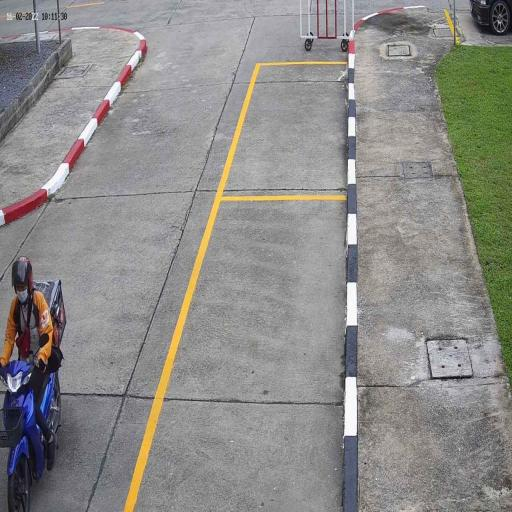motorcycle: (0, 359, 62, 512)
